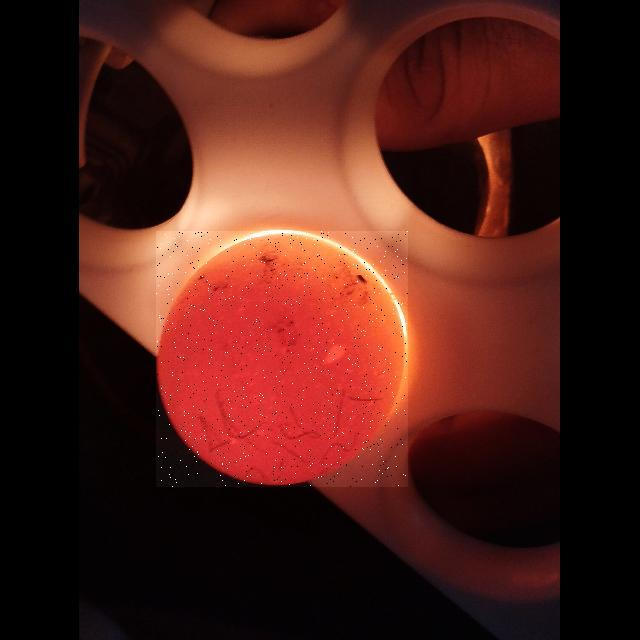Infertile: (156, 231, 408, 487)
